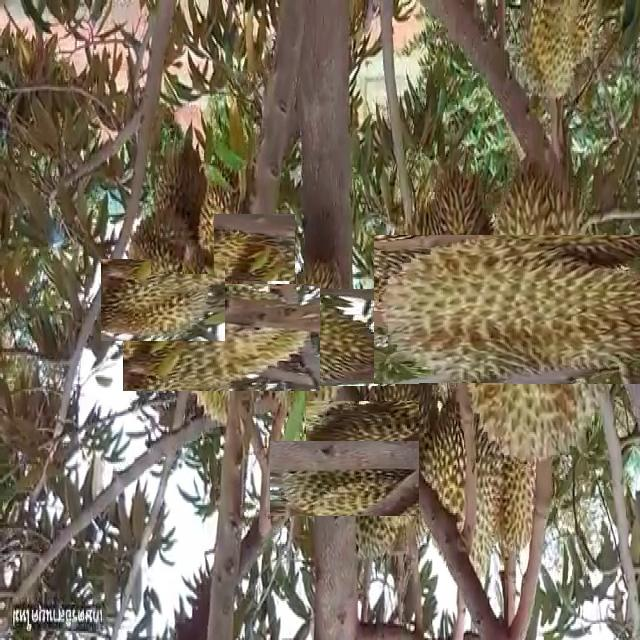durian: (417, 192, 640, 428), (145, 261, 297, 414), (391, 172, 497, 382), (238, 269, 375, 406), (332, 374, 468, 510), (419, 382, 508, 580), (298, 413, 429, 544), (482, 406, 558, 569), (111, 248, 214, 352), (181, 198, 280, 297), (511, 2, 600, 108), (151, 142, 214, 274)
